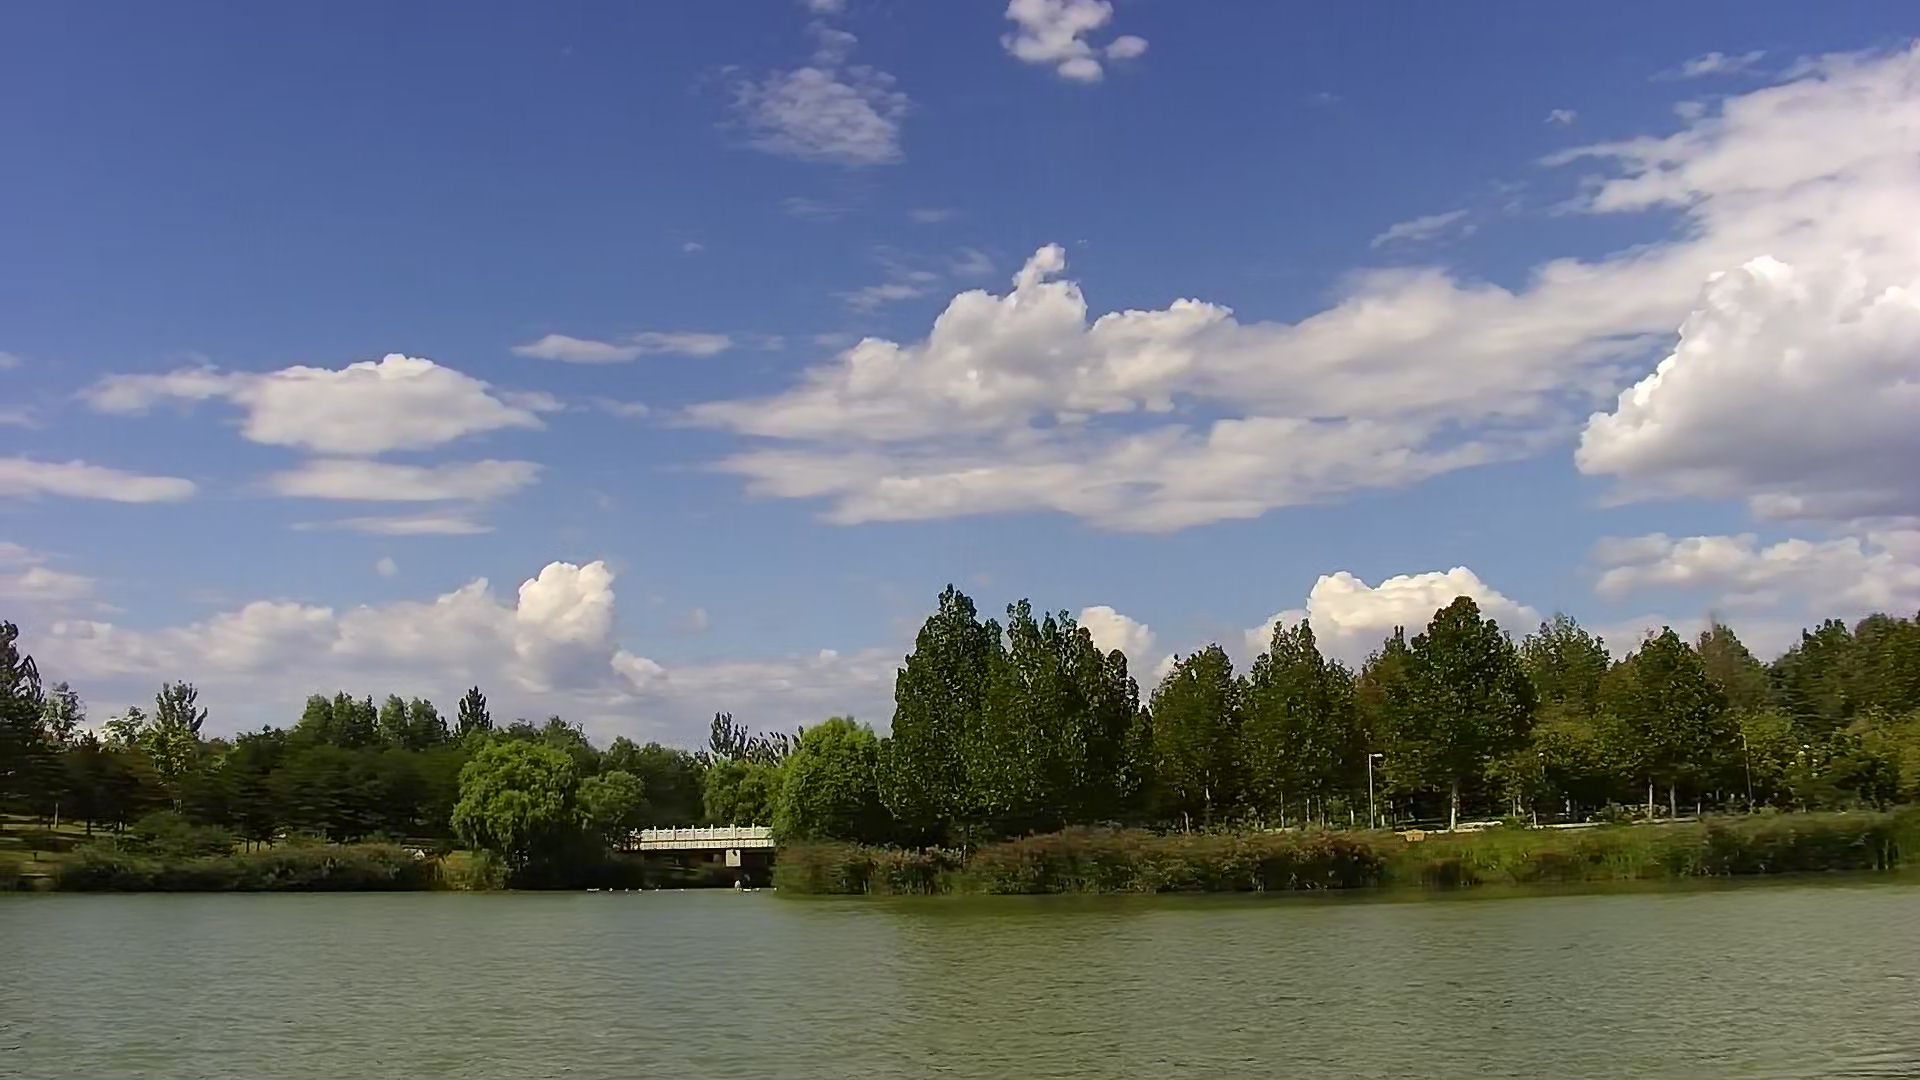bridge: (629, 822, 771, 887)
